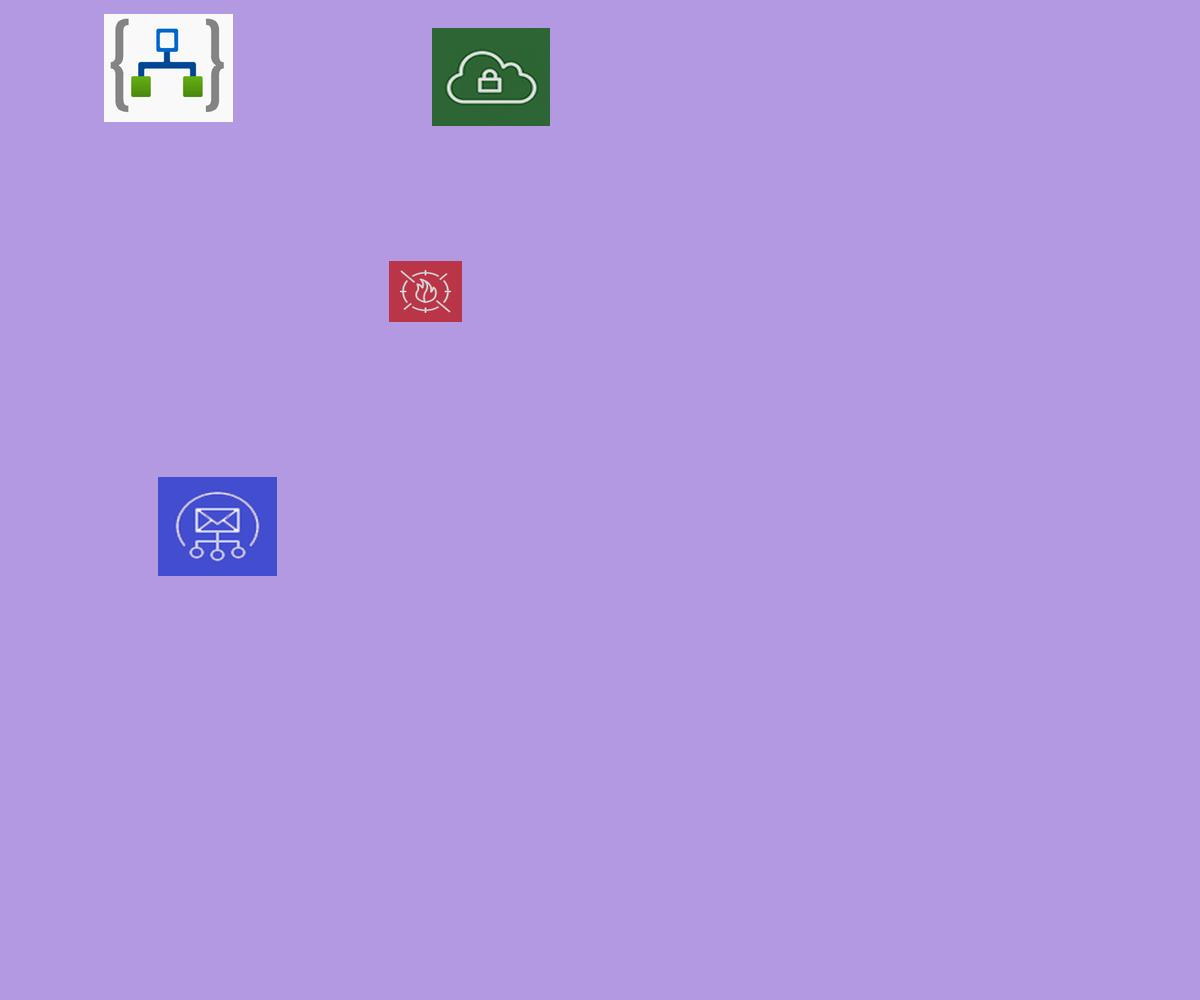AWS-Private_vpc: (432, 28, 550, 126)
AWS-Simple-Email-Service: (158, 477, 277, 576)
AWS-WAF: (389, 261, 462, 322)
Azure_integration-204-Logic-Apps: (104, 14, 233, 122)
